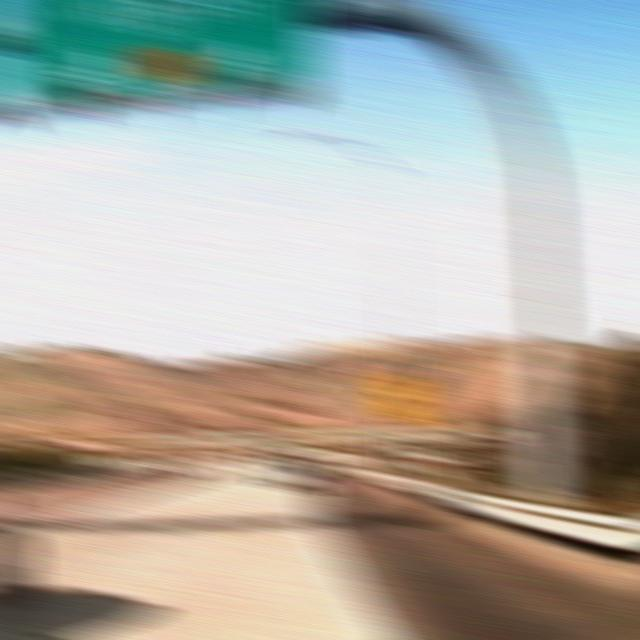speedLimit50: (376, 369, 426, 424)
